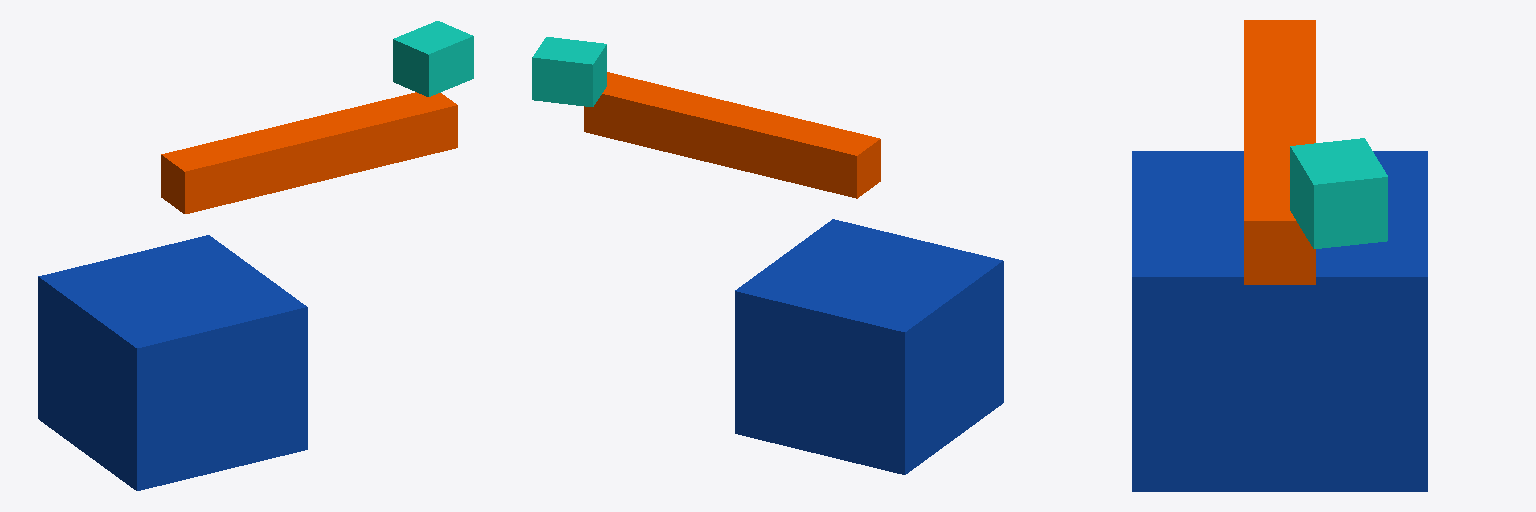
URDF robot description (teaching_arm):
<robot name="teaching_arm">
  <link name="world" />
  <link name="base">
    <inertial>
      <mass value="3" />
      <inertia ixx=".1" iyy=".1" izz=".1" ixy="0" ixz="0" iyz="0" />
    </inertial>
    <visual name="pedestal_visual">
      <origin xyz="0 0 .2" />
      <geometry>
        <box size=".5 .5 .4" />
      </geometry>
      <material name="blue">
        <color rgba=".11 .36 .75 1" />
      </material>
    </visual>
    <collision name="pedestal_collision">
      <origin xyz="0 0 .2" />
      <geometry>
        <box size=".5 .5 .4" />
      </geometry>
    </collision>
  </link>
  <joint name="anchor" type="fixed">
    <parent link="world" />
    <child link="base" />
  </joint>
  <link name="arm">
    <inertial>
      <origin xyz=".4 0 0" />
      <mass value="1" />
      <inertia ixx=".005" iyy=".06" izz=".06" ixy="0" ixz="0" iyz="0" />
    </inertial>
    <visual name="beam_visual">
      <origin xyz=".4 0 0" />
      <geometry>
        <box size=".8 .12 .12" />
      </geometry>
      <material name="orange">
        <color rgba="1 .4 0 1" />
      </material>
    </visual>
    <collision name="beam_collision">
      <origin xyz=".4 0 0" />
      <geometry>
        <box size=".8 .12 .12" />
      </geometry>
    </collision>
  </link>
  <joint name="shoulder" type="revolute">
    <parent link="base" />
    <child link="arm" />
    <origin xyz="0 0 .7" />
    <axis xyz="0 0 1" />
    <limit lower="-1.5" upper="1.5" effort="20" velocity="2" />
    <dynamics damping=".2" />
  </joint>
  <link name="tool">
    <inertial>
      <mass value=".08" />
      <inertia ixx=".0002" iyy=".0002" izz=".0002" ixy="0" ixz="0" iyz="0" />
    </inertial>
    <visual name="tool_visual">
      <geometry>
        <box size=".16 .13 .12" />
      </geometry>
      <material name="cyan">
        <color rgba=".12 .85 .76 1" />
      </material>
    </visual>
  </link>
  <joint name="tool_mount" type="fixed">
    <parent link="arm" />
    <child link="tool" />
    <origin xyz=".82 .10 .12" rpy="0 0 .25" />
  </joint>
  <gazebo>
    <plugin filename="gz-sim-joint-state-publisher-system" name="gz::sim::systems::JointStatePublisher">
      <topic>/gt/joints</topic>
      <joint_name>shoulder</joint_name>
      <update_rate>30</update_rate>
    </plugin>
    <plugin filename="gz-sim-joint-position-controller-system" name="gz::sim::systems::JointPositionController">
      <joint_name>shoulder</joint_name>
      <topic>/gt/shoulder</topic>
      <p_gain>12</p_gain>
      <i_gain>0</i_gain>
      <d_gain>2</d_gain>
      <cmd_max>20</cmd_max>
      <cmd_min>-20</cmd_min>
    </plugin>
    <plugin filename="gz-sim-pose-publisher-system" name="gz::sim::systems::PosePublisher">
      <topic>/gt/arm_link_poses</topic>
      <publish_model_pose>false</publish_model_pose>
      <publish_link_pose>true</publish_link_pose>
      <use_pose_vector_msg>true</use_pose_vector_msg>
      <update_frequency>30</update_frequency>
    </plugin>
  </gazebo>
  <gazebo reference="tool_mount">
    <preserveFixedJoint>true</preserveFixedJoint>
  </gazebo>
</robot>

--- Facts derived from the render (not from the file) ---
Views: 3 orthographic renders of the robot side by side, from view 1: azimuth 30°, elevation 25°; view 2: azimuth 150°, elevation 25°; view 3: azimuth 270°, elevation 25°.
Robot: teaching_arm — 4 links, 3 joints (1 revolute, 2 fixed); root link world; default pose: all joints at 0.
Visible links, largest first — view 1: base, arm, tool; view 2: base, arm, tool; view 3: base, arm, tool.
Link boxes in pixels (left/top/right/bottom): base: left=38, top=235, right=307, bottom=490; arm: left=161, top=92, right=457, bottom=213; tool: left=393, top=21, right=473, bottom=96; base: left=735, top=219, right=1003, bottom=474; arm: left=584, top=72, right=880, bottom=198; tool: left=532, top=37, right=606, bottom=106; base: left=1132, top=151, right=1427, bottom=491; arm: left=1244, top=20, right=1315, bottom=284; tool: left=1290, top=138, right=1387, bottom=248.
Bounding box of the posed robot: 1.16 × 0.5 × 0.88 m (x, y, z).
Geometry: primitives only (box / cylinder / sphere), no mesh files.
